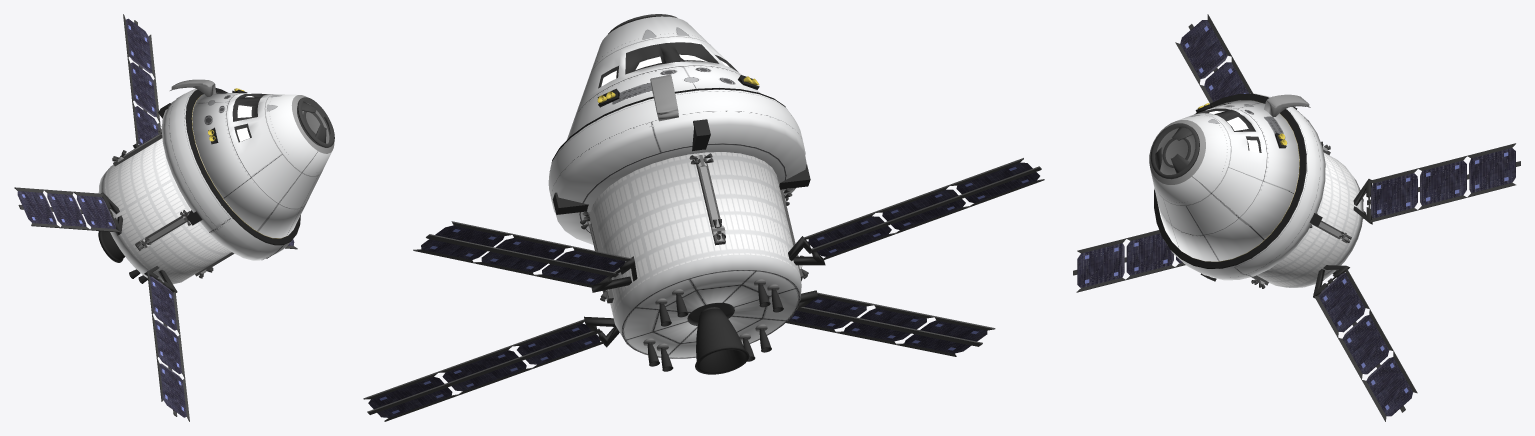
The model's file is orion_spacecraft.glb.
The picture shows the model from 3 angles, left to right: view 1: azimuth 30°, elevation 25°; view 2: azimuth 150°, elevation 25°; view 3: azimuth 270°, elevation 25°; orthographic projection. The views are drawn at different scales.
Parts seen in each view (by area): view 1: Capsule_38, Cylinder.005_35, Cylinder.003_25, Cylinder.015_36, Plane.005_3, Plane.002_8, Plane.003_5, Plane.004_4, Plane.001_9, Plane.011_17, Plane.010_18, Plane.009_19 (+6 smaller); view 2: Cylinder.005_35, Cylinder.003_25, Capsule_38, Cylinder_24, Plane.008_12, Plane.007_13, Plane.006_14, Plane_10, Plane.002_8, Plane.001_9, Plane.009_19, Plane.011_17 (+9 smaller); view 3: Capsule_38, Cylinder.003_25, Cylinder.005_35, Cylinder.015_36, Plane.011_17, Plane.005_3, Plane.008_12, Plane.001_9, Plane.002_8, Plane_10, Plane.006_14, Plane.007_13 (+4 smaller).
Boxes of the visible parts, left/top/right/bottom form: Capsule_38: left=192, top=92, right=334, bottom=238; Cylinder.005_35: left=98, top=138, right=231, bottom=284; Cylinder.003_25: left=161, top=88, right=300, bottom=260; Cylinder.015_36: left=297, top=97, right=334, bottom=147; Plane.005_3: left=156, top=358, right=189, bottom=421; Plane.002_8: left=123, top=14, right=155, bottom=78; Plane.003_5: left=147, top=271, right=180, bottom=334; Plane.004_4: left=152, top=315, right=185, bottom=378; Plane.001_9: left=127, top=58, right=159, bottom=121; Plane.011_17: left=14, top=187, right=60, bottom=228; Plane.010_18: left=44, top=189, right=90, bottom=230; Plane.009_19: left=73, top=191, right=119, bottom=232; Cylinder.005_35: left=591, top=152, right=801, bottom=358; Cylinder.003_25: left=548, top=88, right=806, bottom=244; Capsule_38: left=567, top=16, right=760, bottom=139; Cylinder_24: left=695, top=307, right=749, bottom=374; Plane.008_12: left=363, top=372, right=458, bottom=421; Plane.007_13: left=438, top=345, right=533, bottom=394; Plane.006_14: left=512, top=319, right=602, bottom=368; Plane_10: left=534, top=246, right=631, bottom=287; Plane.002_8: left=413, top=221, right=512, bottom=263; Plane.001_9: left=473, top=233, right=572, bottom=275; Plane.009_19: left=801, top=212, right=896, bottom=260; Plane.011_17: left=949, top=158, right=1044, bottom=206; Capsule_38: left=1149, top=100, right=1299, bottom=261; Cylinder.003_25: left=1154, top=93, right=1325, bottom=280; Cylinder.005_35: left=1257, top=152, right=1363, bottom=287; Cylinder.015_36: left=1150, top=123, right=1199, bottom=179; Plane.011_17: left=1175, top=14, right=1231, bottom=84; Plane.005_3: left=1073, top=238, right=1126, bottom=292; Plane.008_12: left=1361, top=351, right=1417, bottom=421; Plane.001_9: left=1418, top=156, right=1469, bottom=210; Plane.002_8: left=1467, top=143, right=1520, bottom=197; Plane_10: left=1367, top=168, right=1419, bottom=222; Plane.006_14: left=1314, top=267, right=1369, bottom=337; Plane.007_13: left=1338, top=309, right=1393, bottom=379.
Size of the model in its own units: 1.59 by 0.9875 by 1.59.
30 materials, 6 textured.
